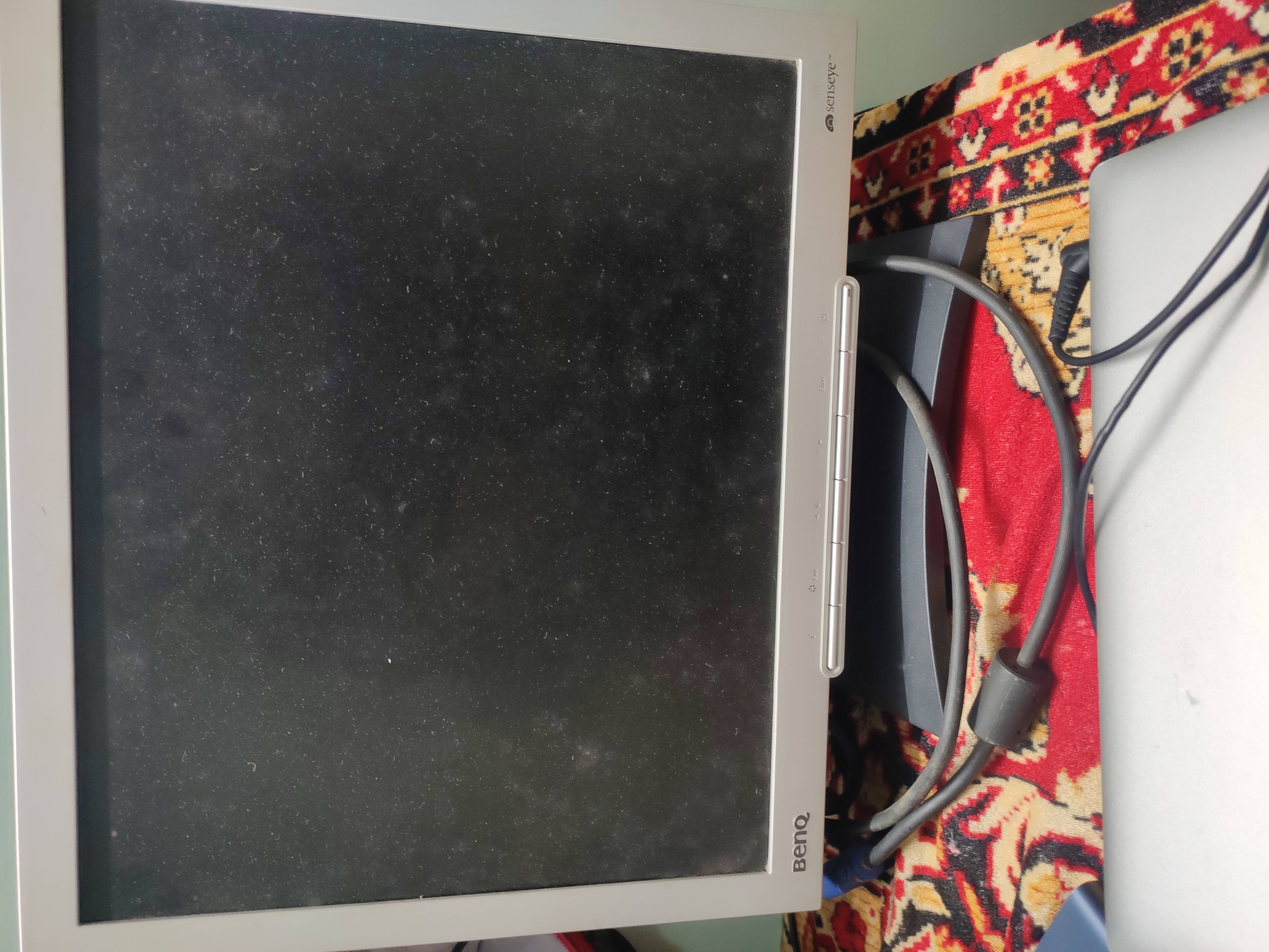Electronics: (2, 1, 984, 952)
